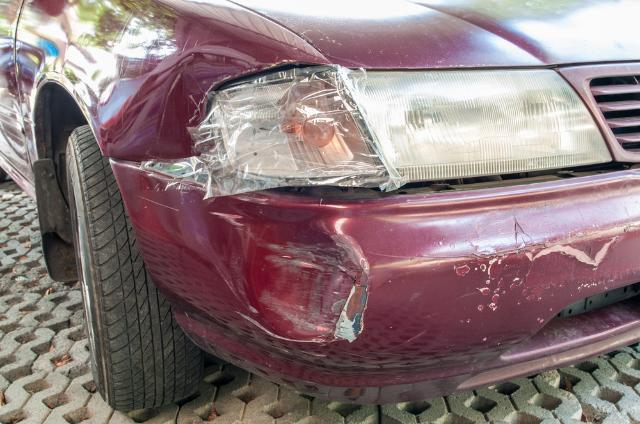dent: (110, 52, 247, 160), (246, 220, 364, 339)
